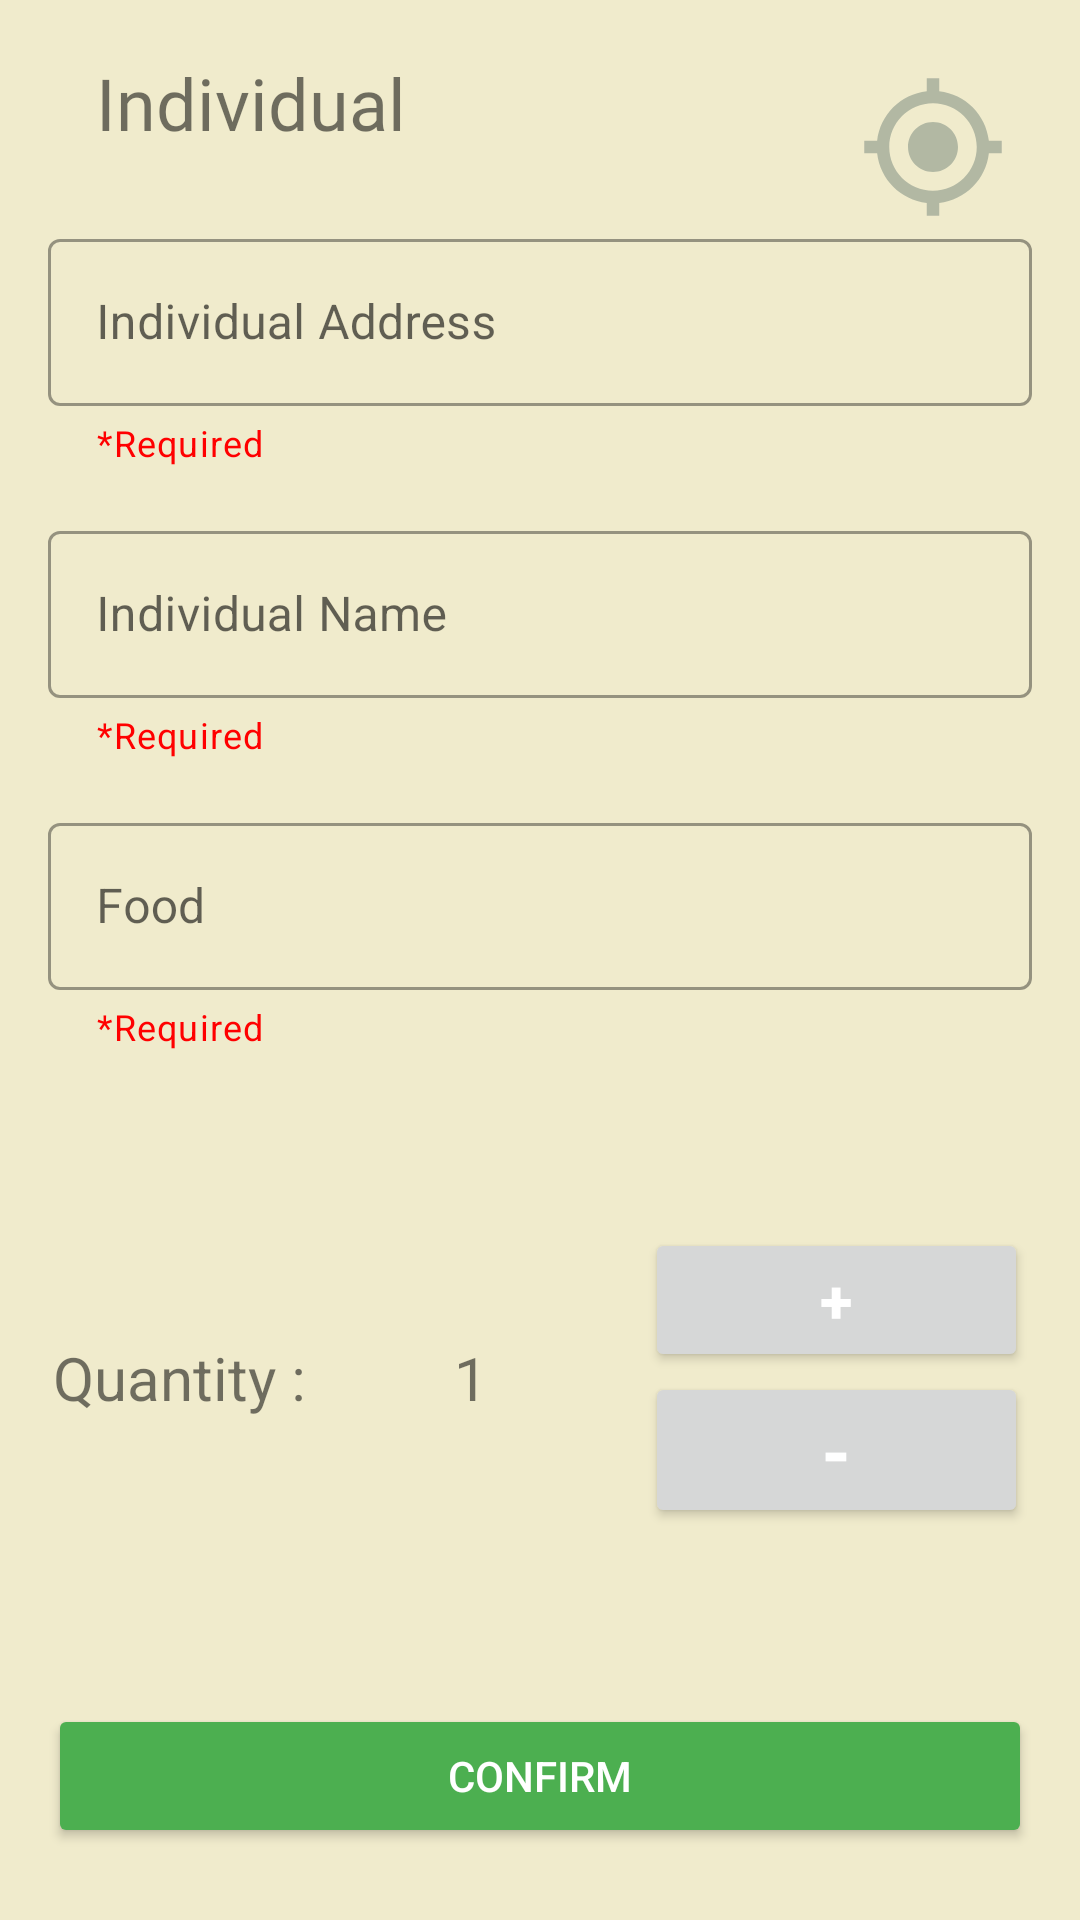

Point at icon controls on the screen. Image size 1080*1920, points as (x,y).
gps fixed: (933,147)
